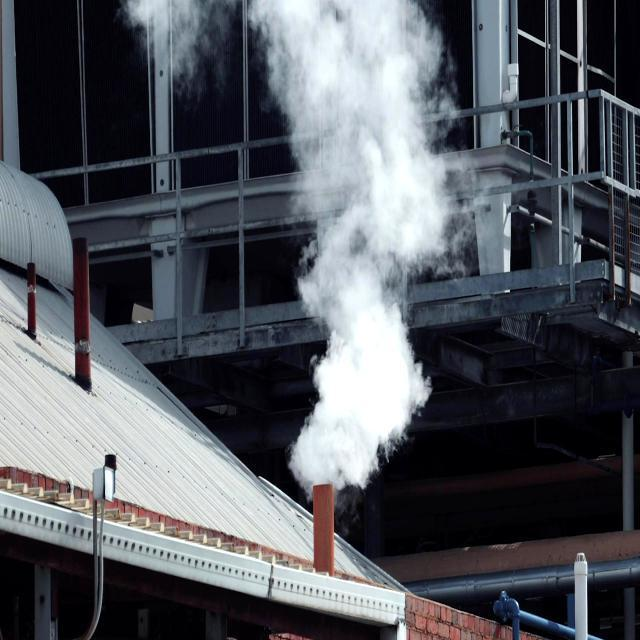Smoke: (222, 0, 459, 508)
